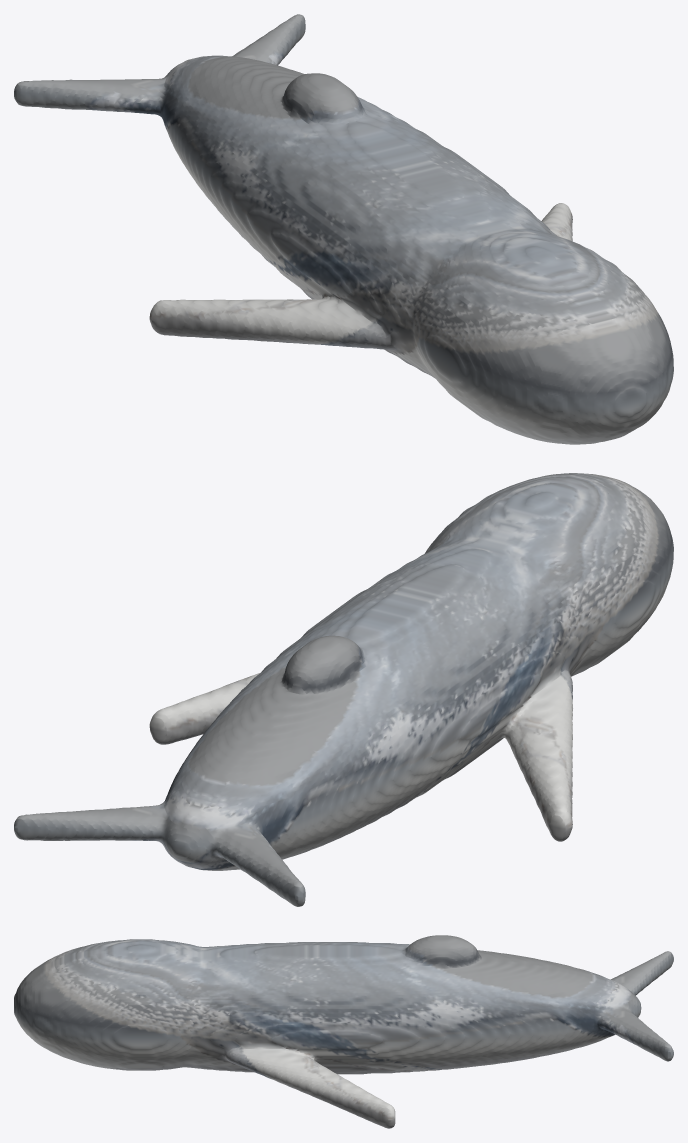
Rendered from bluewhale.glb.
3 renders of one model, top to bottom at view 1: azimuth 30°, elevation 25°; view 2: azimuth 150°, elevation 25°; view 3: azimuth 270°, elevation 25°, orthographic. The views are drawn at different scales.
Visible parts, largest first — view 1: bluewhale; view 2: bluewhale; view 3: bluewhale.
Boxes of the visible parts, x1,y1,x2,y2 form: bluewhale: (14, 14, 673, 444); bluewhale: (14, 473, 673, 906); bluewhale: (14, 935, 673, 1128).
Bounding box in the file's own units: 4.05 × 1.68 × 7.92.
